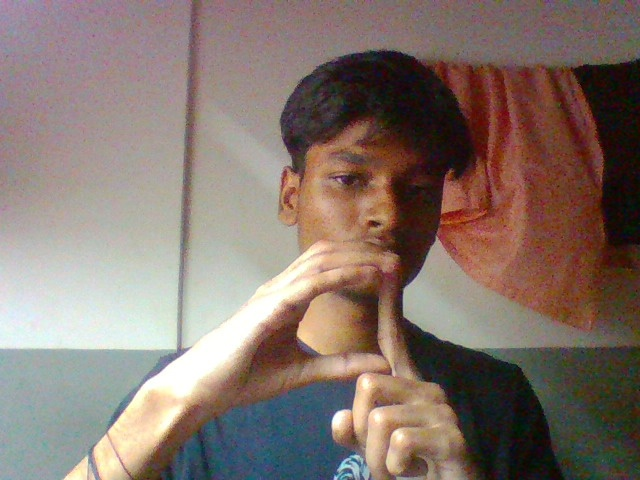D: (132, 202, 514, 476)
